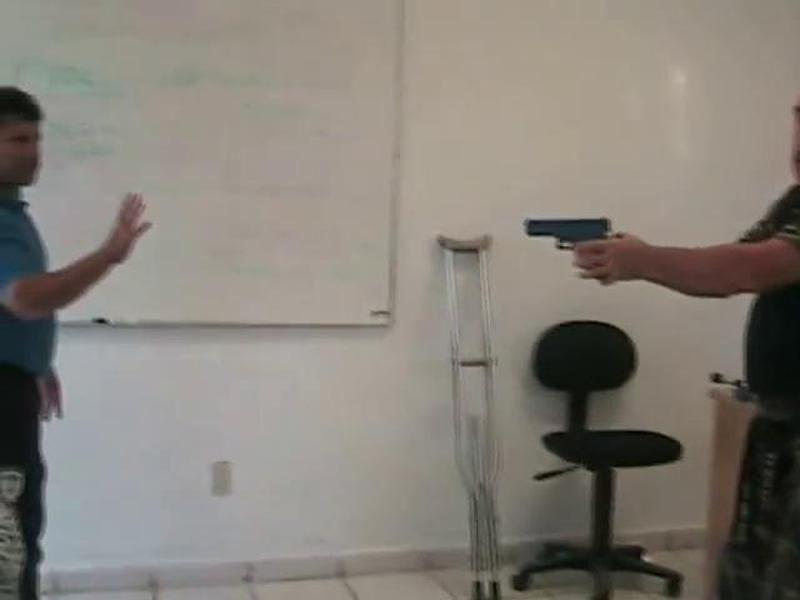Pistola: (518, 201, 651, 324)
